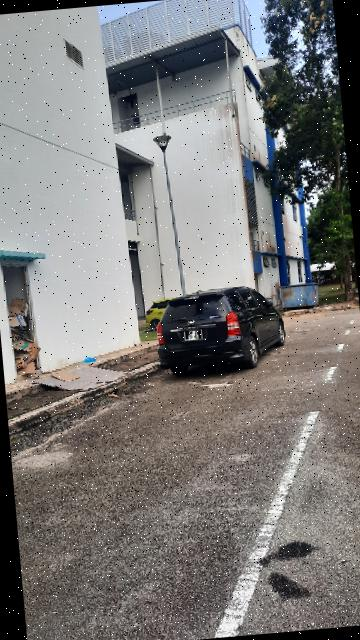License_Plate: (185, 330, 206, 343)
car: (153, 284, 290, 378)
